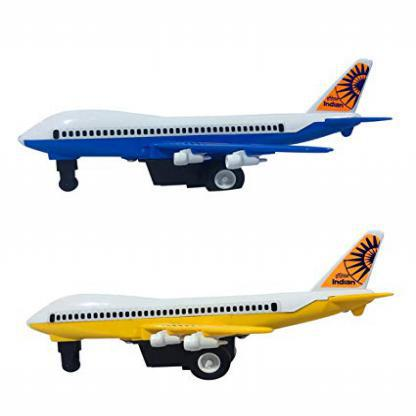CIV_Plane: (16, 228, 392, 380), (17, 48, 394, 191)
